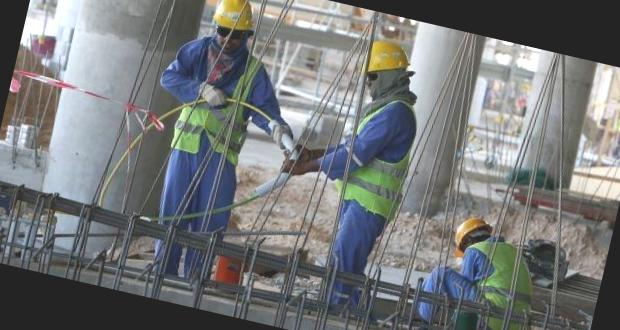helmet: (362, 37, 412, 79), (212, 0, 259, 34)
person: (143, 0, 287, 242), (314, 34, 436, 276), (414, 204, 553, 330)
